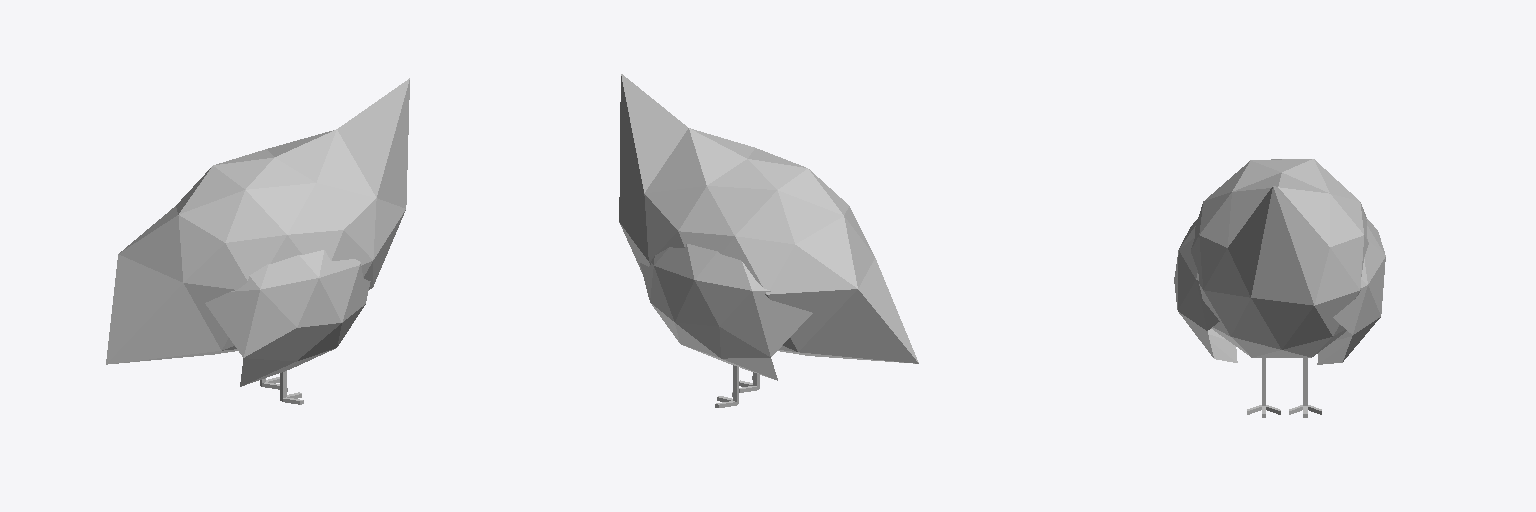
File: bird.obj
3 renders of one model, left to right at view 1: azimuth 30°, elevation 25°; view 2: azimuth 150°, elevation 25°; view 3: azimuth 270°, elevation 25°, orthographic.
Visible parts, largest first — view 1: Icosphere.001_Icosphere.002, Icosphere; view 2: Icosphere.001_Icosphere.002, Icosphere; view 3: Icosphere.001_Icosphere.002, Icosphere.
Part boxes in pixels (bbox=[...]): Icosphere.001_Icosphere.002: bbox=[106, 78, 409, 364]; Icosphere: bbox=[205, 250, 370, 386]; Icosphere.001_Icosphere.002: bbox=[619, 74, 918, 363]; Icosphere: bbox=[640, 244, 812, 380]; Icosphere.001_Icosphere.002: bbox=[1191, 159, 1368, 357]; Icosphere: bbox=[1174, 218, 1385, 364].
Size of the model in its own units: 2.98 by 2.71 by 1.81.